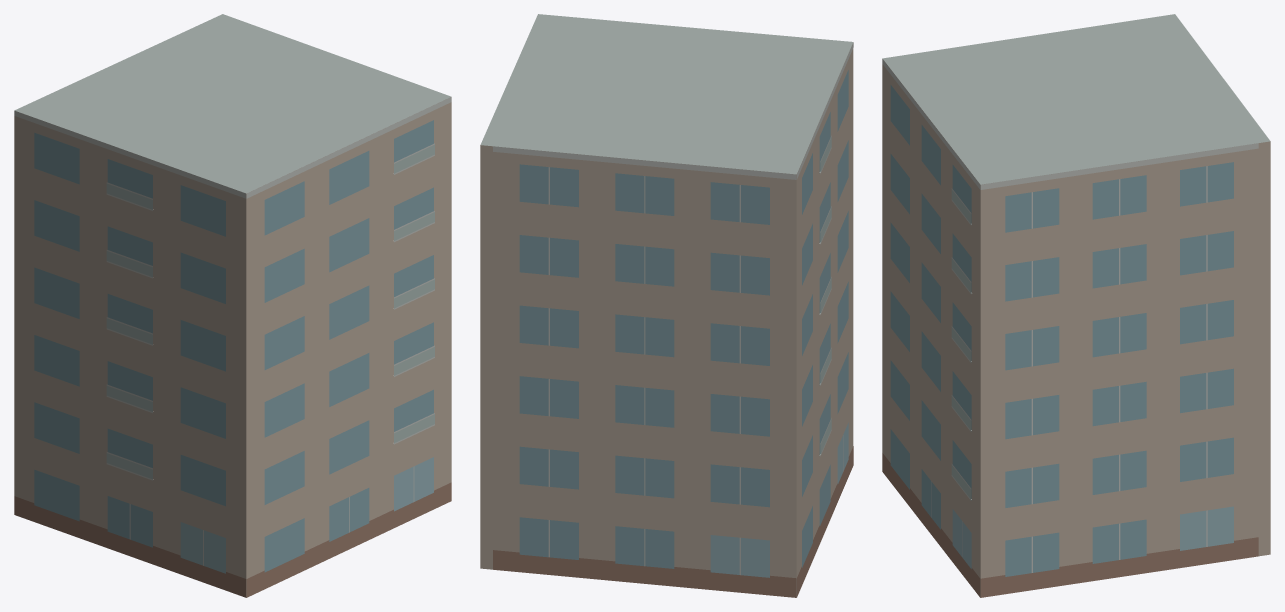
The model's file is survey-upis-32992770.glb.
3 renders of one model, left to right at view 1: azimuth 30°, elevation 25°; view 2: azimuth 150°, elevation 25°; view 3: azimuth 270°, elevation 25°, orthographic. The views are drawn at different scales.
Visible parts, largest first — view 1: survey-upis-32992770.tmp; view 2: survey-upis-32992770.tmp; view 3: survey-upis-32992770.tmp.
Part boxes in pixels (<box>): survey-upis-32992770.tmp: <box>14,14,451,597</box>; survey-upis-32992770.tmp: <box>480,14,853,597</box>; survey-upis-32992770.tmp: <box>882,14,1270,597</box>.
Bounding box in the file's own units: 16.48 × 18.6 × 15.85.
